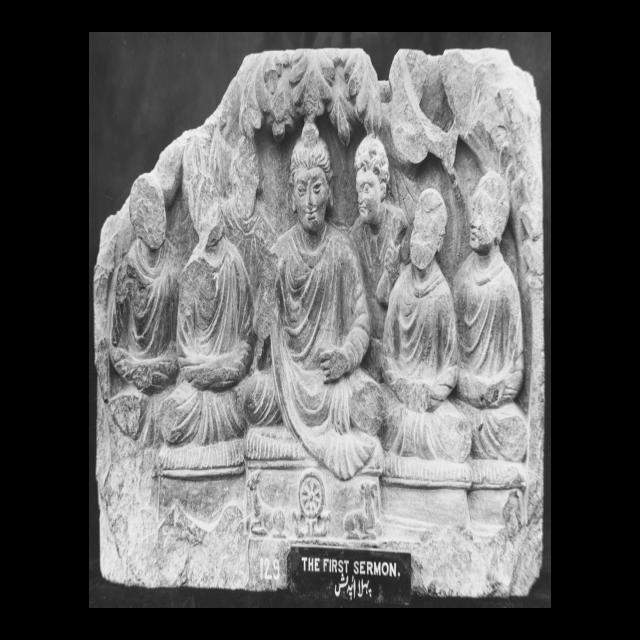buddha-sitting: (246, 124, 384, 480)
